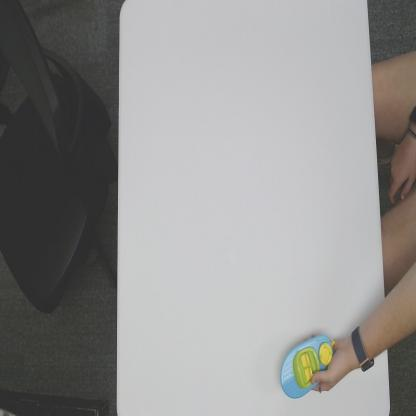Boat: (279, 333, 334, 402)
Hand: (311, 338, 348, 394)
